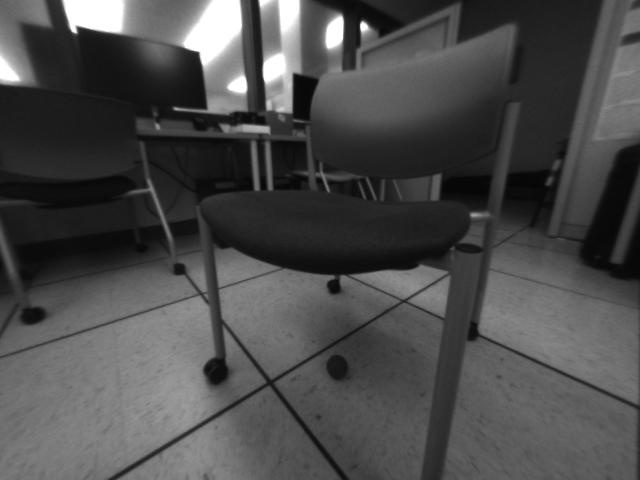dogtoy: (323, 351, 354, 385)
